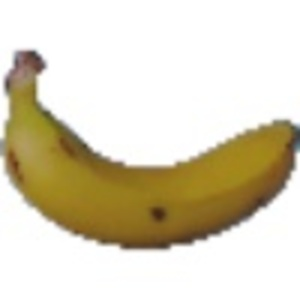banana: (4, 44, 299, 256)
